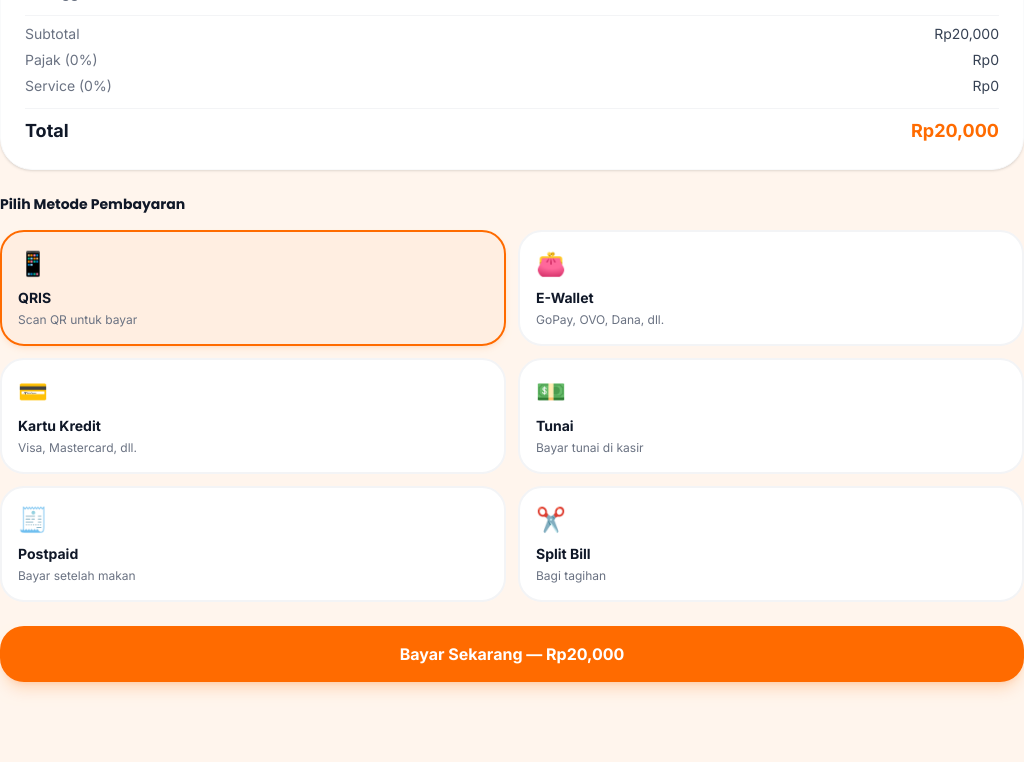
it: PaymentPage — 409 PRICE_CHANGED (DR-11) › declining keeps the cart and submits nothing further
(page scrolled)
Click the button "Bayar Sekarang — Rp20,000" at (512, 654), box [0, 626, 1023, 682]
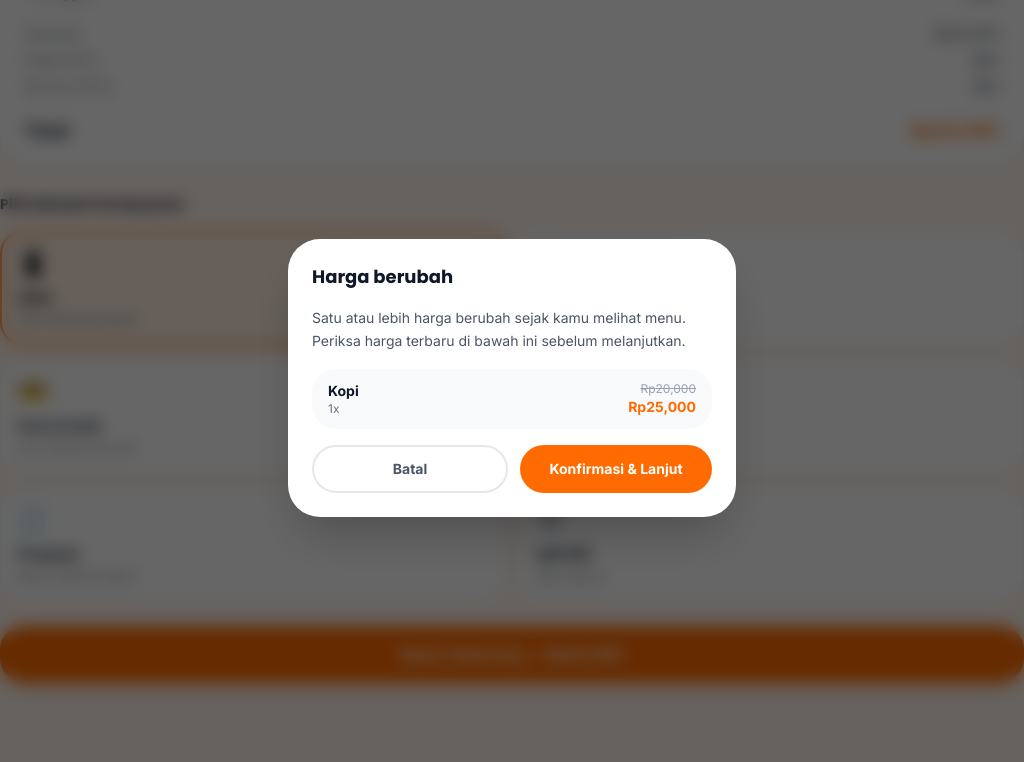
Expected: the heading "Harga berubah" is shown, [312, 264, 453, 289]
Click the button "Batal" at (410, 469), box [312, 445, 508, 493]
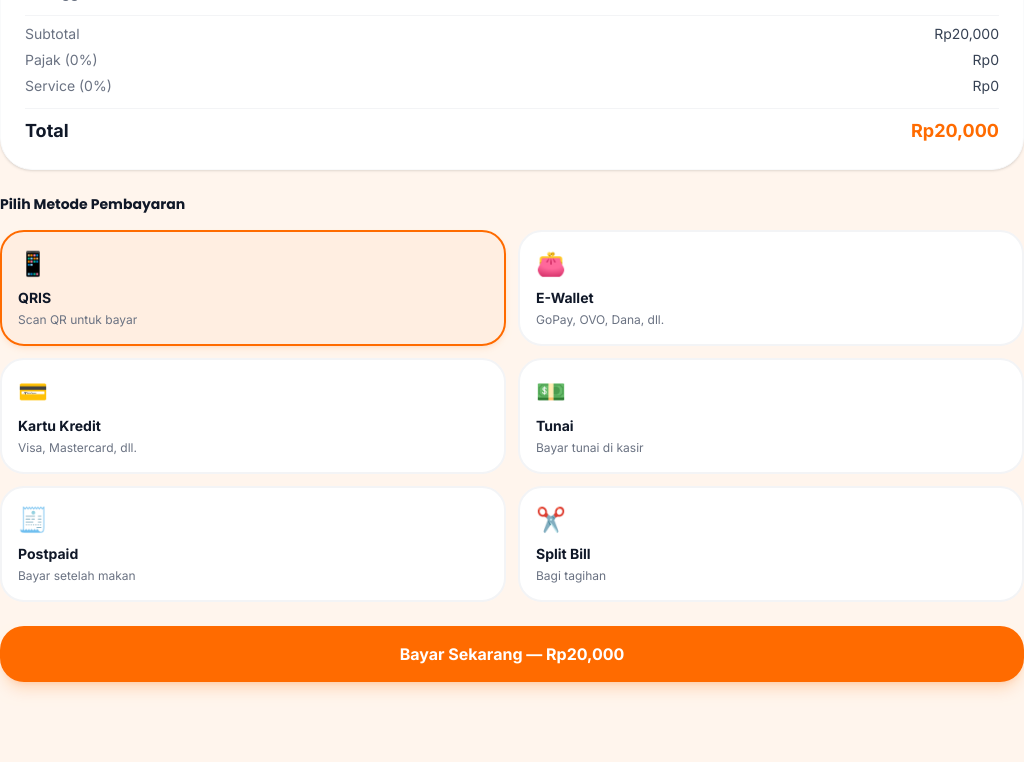
Expected: the heading "Harga berubah" is gone
